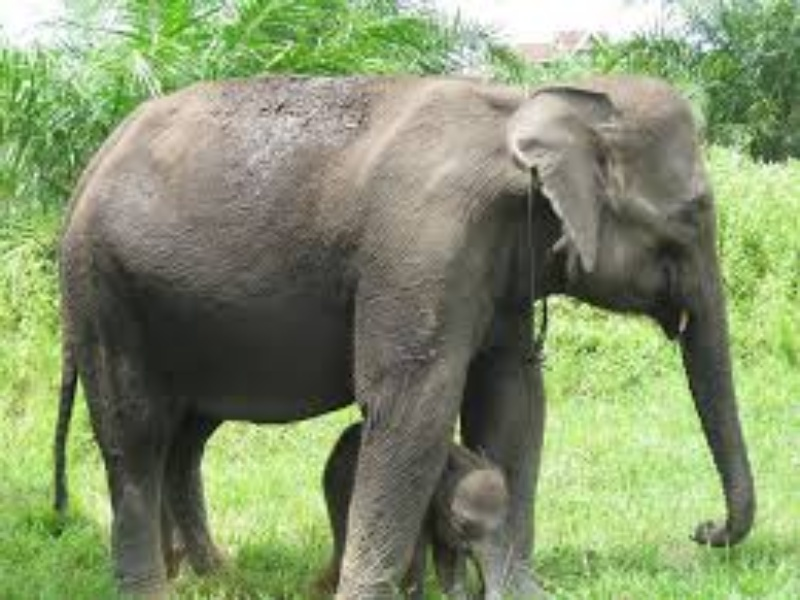elephant: (50, 70, 800, 600), (312, 429, 522, 600)
